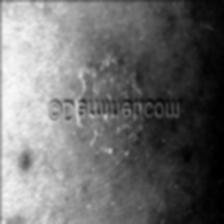Non-Cancerous Skin Condition: (71, 55, 144, 160)
